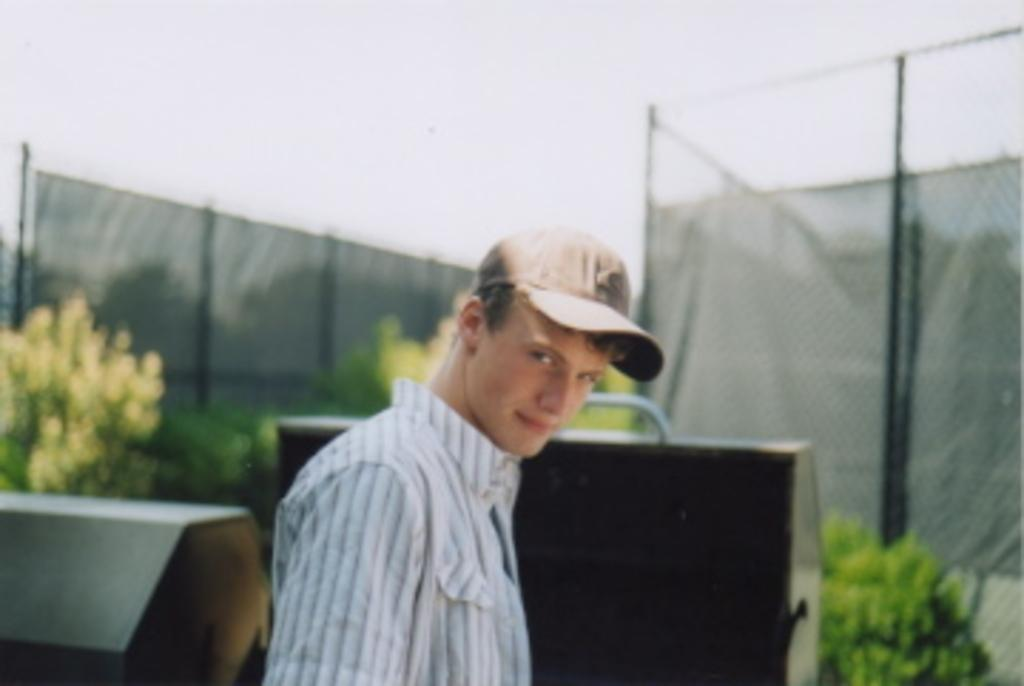Hat: (470, 226, 666, 380)
